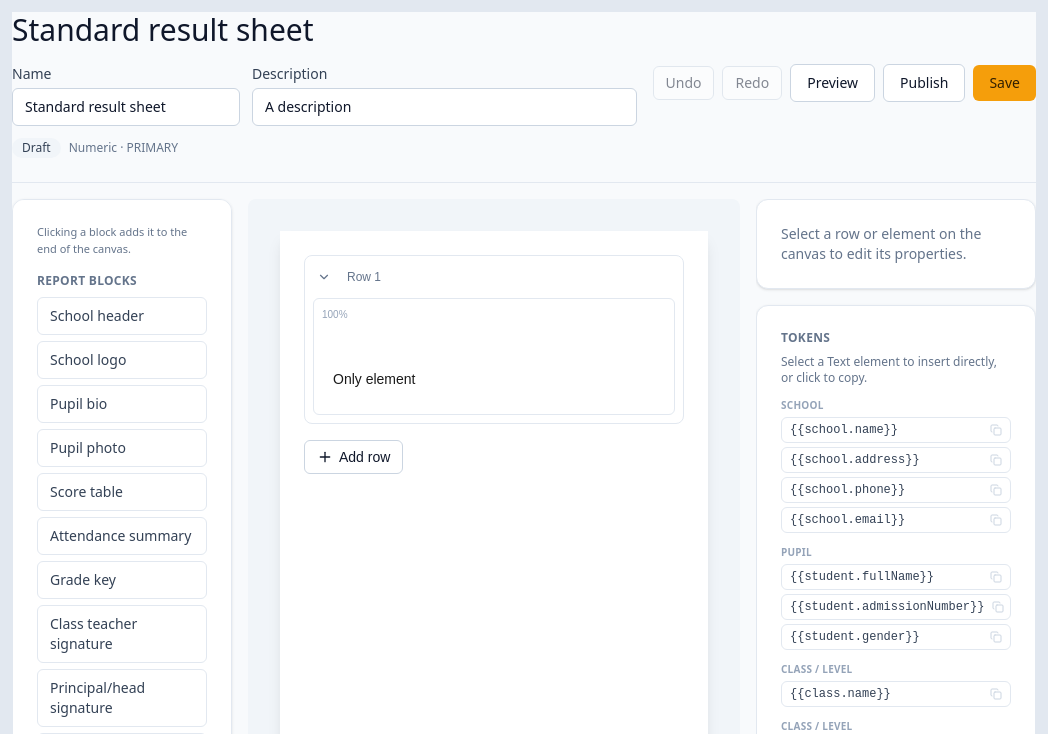
Test: TemplateDesignerPage › the palette caption reflects where a click will insert
Expected: the field showing "Standard result sheet" is shown, [12,88,240,126]
Expected: the text "Clicking a block adds it to the end of the canvas." is shown, [37,224,207,257]
Click the text "Only element".
click(374, 379)  # box [333,371,416,387]
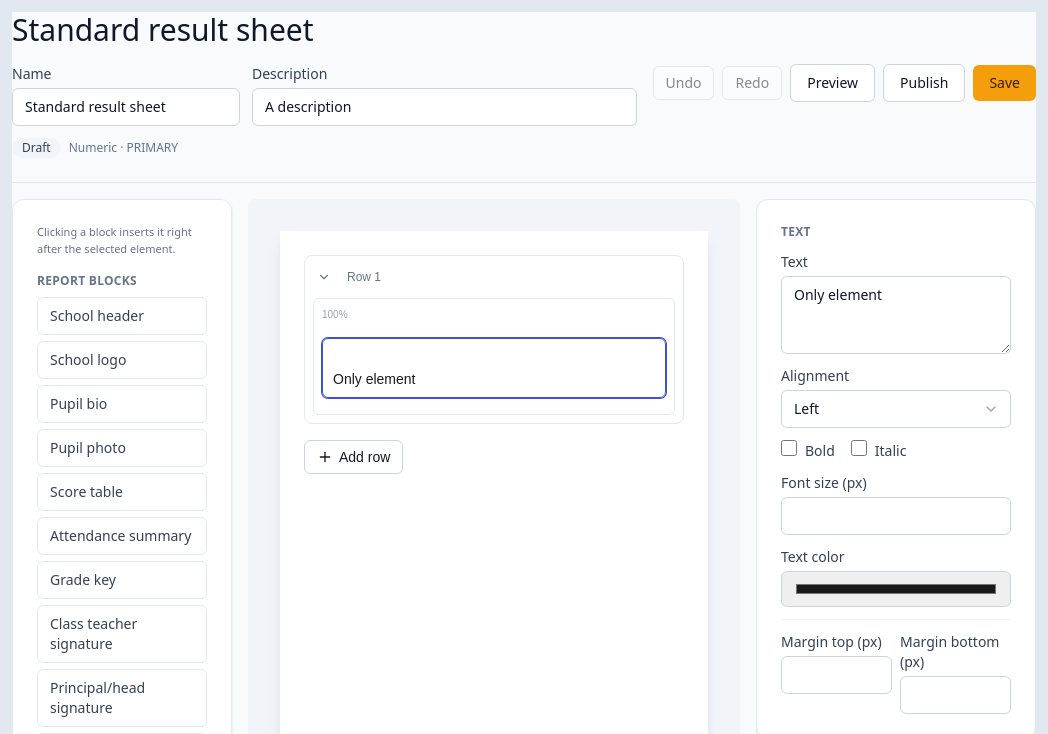
Expected: the text "inserts it right after the selected element" is shown, [37,224,192,256]
